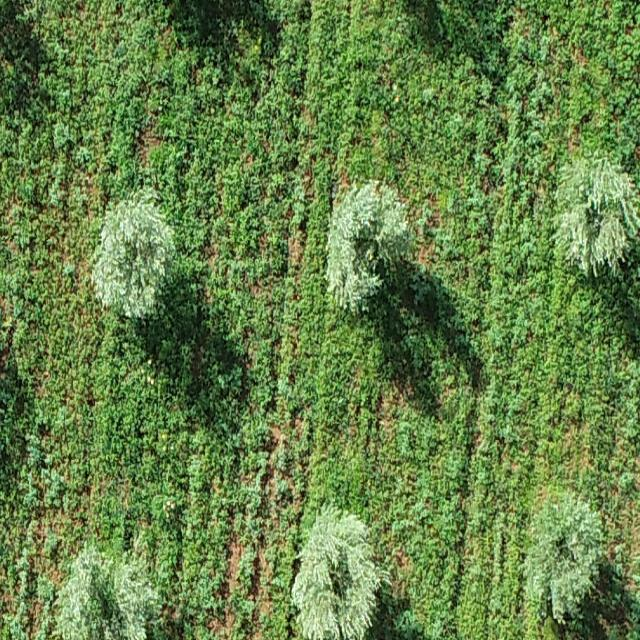trees: (292, 507, 388, 640), (326, 180, 412, 310), (92, 188, 174, 317), (556, 153, 640, 275), (526, 494, 604, 624), (56, 548, 158, 640)
